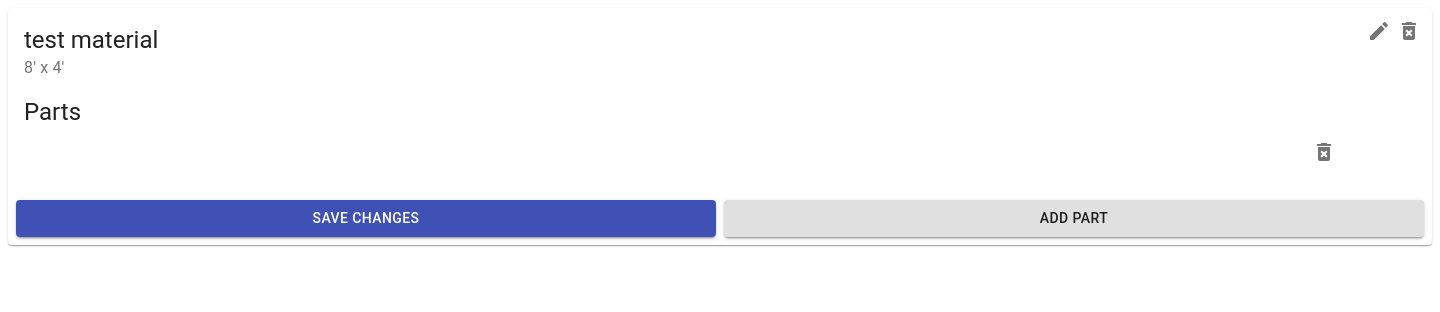
Test: should be able to add a part
Expected: the number of elements with test id "part-row" is 1, [1300,128,1348,176]
Click the button with test id "add-part": (1074, 218) [724,200,1424,236]
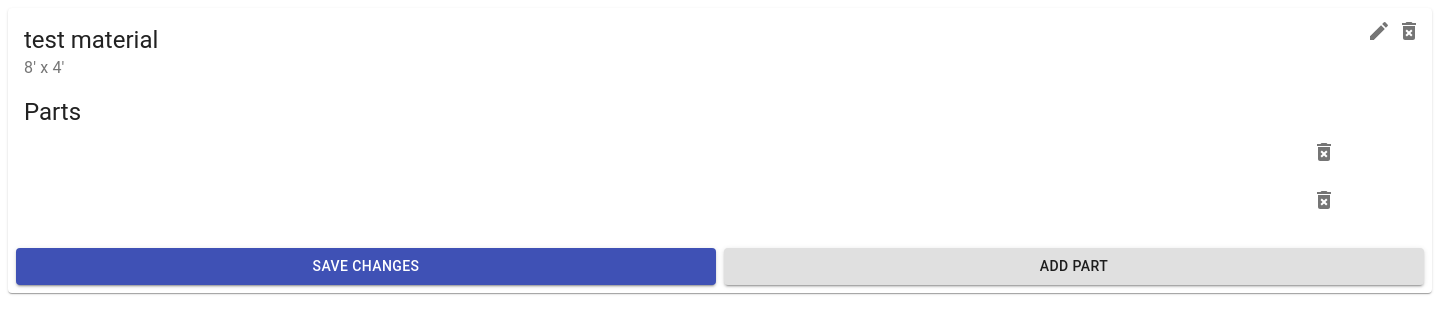
Expected: the number of elements with test id "part-row" is 2, [1300,128,1348,176]; [1300,176,1348,224]
